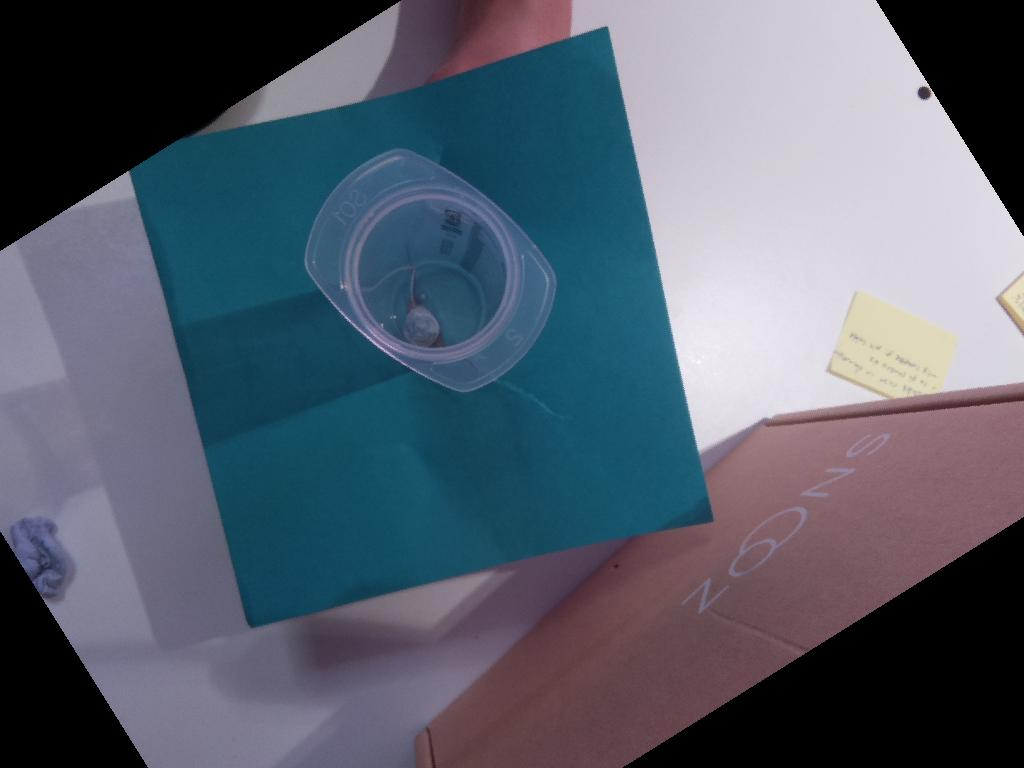clean: (303, 149, 557, 393)
